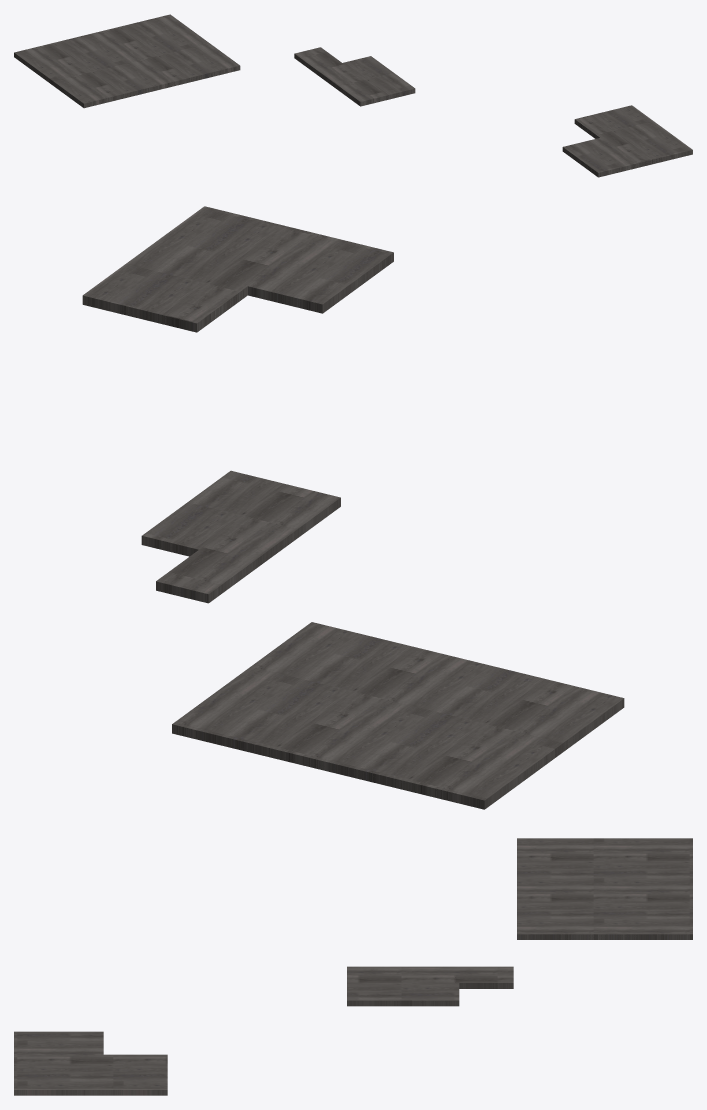
Rendered from Floor_CastineCovePlus7WhitefillOak_.glb.
3 renders of one model, top to bottom at view 1: azimuth 30°, elevation 25°; view 2: azimuth 150°, elevation 25°; view 3: azimuth 270°, elevation 25°, orthographic. The views are drawn at different scales.
Visible parts, largest first — view 1: Floors_castine_cove_plus_whitefill_oak; view 2: Floors_castine_cove_plus_whitefill_oak; view 3: Floors_castine_cove_plus_whitefill_oak.
Part boxes in pixels (left/top/right/bottom): Floors_castine_cove_plus_whitefill_oak: left=14, top=14, right=692, bottom=177; Floors_castine_cove_plus_whitefill_oak: left=82, top=206, right=624, bottom=809; Floors_castine_cove_plus_whitefill_oak: left=14, top=838, right=692, bottom=1095.
Size of the model in its own units: 18.6 by 0.2 by 21.2.
Materials: 1 (1 with a texture image).
